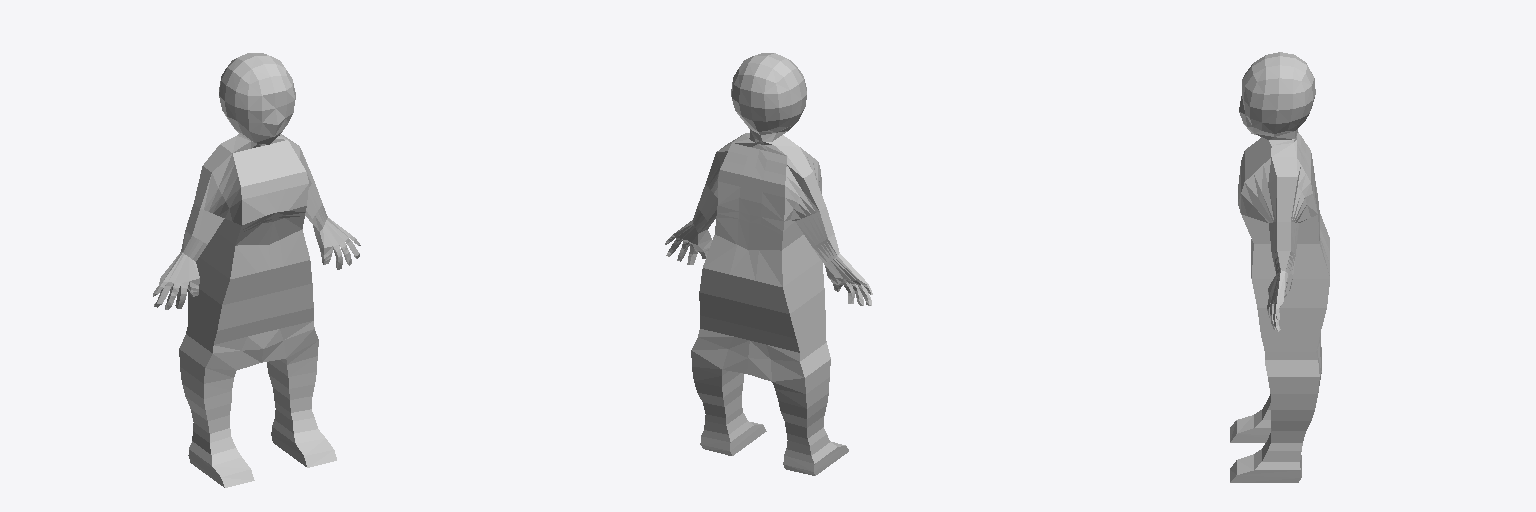
Rendered from mom.obj.
3 renders of one model, left to right at view 1: azimuth 30°, elevation 25°; view 2: azimuth 150°, elevation 25°; view 3: azimuth 270°, elevation 25°, orthographic.
Parts seen in each view (by area): view 1: Cube.001_Cube.003; view 2: Cube.001_Cube.003; view 3: Cube.001_Cube.003.
Part boxes in pixels (x1,y1,x2,y2): Cube.001_Cube.003: (153,53,360,487); Cube.001_Cube.003: (665,53,872,475); Cube.001_Cube.003: (1230,52,1329,482).
Size of the model in its own units: 2.05 by 3.77 by 0.8615.